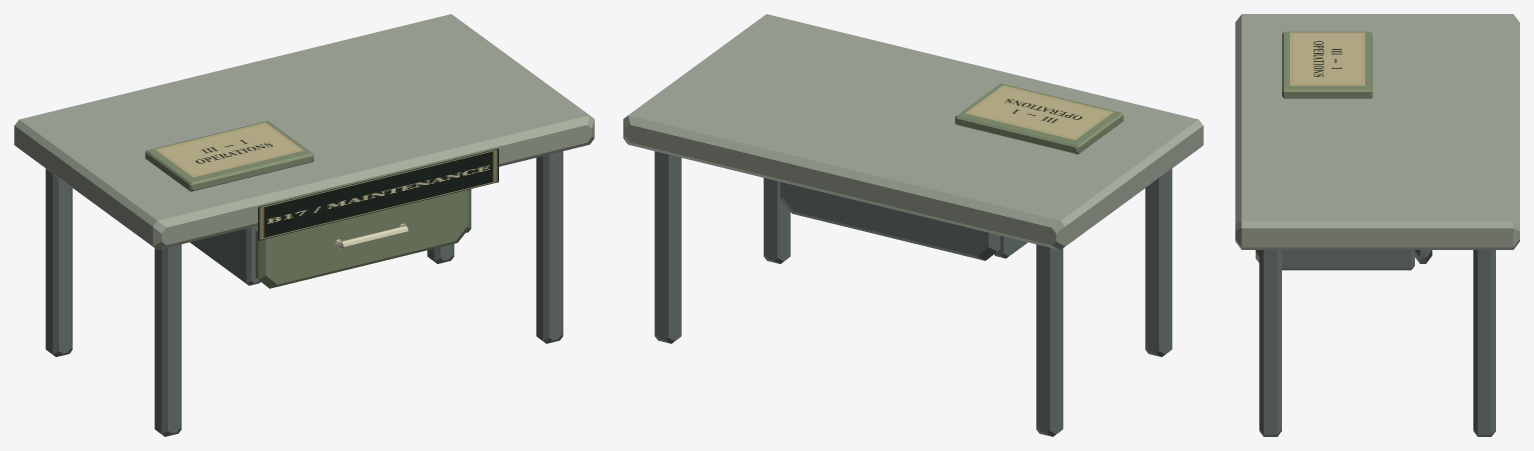
Rendered from workbench.glb.
3 views of the same model, side by side, from view 1: azimuth 30°, elevation 25°; view 2: azimuth 150°, elevation 25°; view 3: azimuth 270°, elevation 25° (orthographic).
Parts seen in each view (by area): view 1: Worktop, BenchLeg (×3), DrawerFront, WorkbenchLabel, Clue_operations, OperationsBook, DrawerSide, DrawerPull; view 2: Worktop, BenchLeg (×4), DrawerHousingBack, Clue_operations, OperationsBook; view 3: Worktop, BenchLeg (×2), Clue_operations, DrawerSide, OperationsBook.
Boxes of the visible parts, <box> form: Worktop: <box>14,14,594,249</box>; BenchLeg (×3): <box>45,151,563,436</box>; DrawerFront: <box>255,189,469,288</box>; WorkbenchLabel: <box>258,148,498,240</box>; Clue_operations: <box>155,122,303,177</box>; OperationsBook: <box>145,120,313,191</box>; DrawerSide: <box>190,225,260,285</box>; DrawerPull: <box>335,223,408,249</box>; Worktop: <box>623,14,1203,249</box>; BenchLeg (×4): <box>654,151,1172,436</box>; DrawerHousingBack: <box>780,182,1000,260</box>; Clue_operations: <box>965,85,1113,139</box>; OperationsBook: <box>955,83,1123,154</box>; Worktop: <box>1235,14,1519,249</box>; BenchLeg (×2): <box>1259,250,1495,436</box>; Clue_operations: <box>1290,32,1364,85</box>; DrawerSide: <box>1282,250,1414,270</box>; OperationsBook: <box>1282,31,1372,98</box>.
Size of the model in its own units: 2.2 by 1.14 by 1.26.
8 materials, 3 textured.
